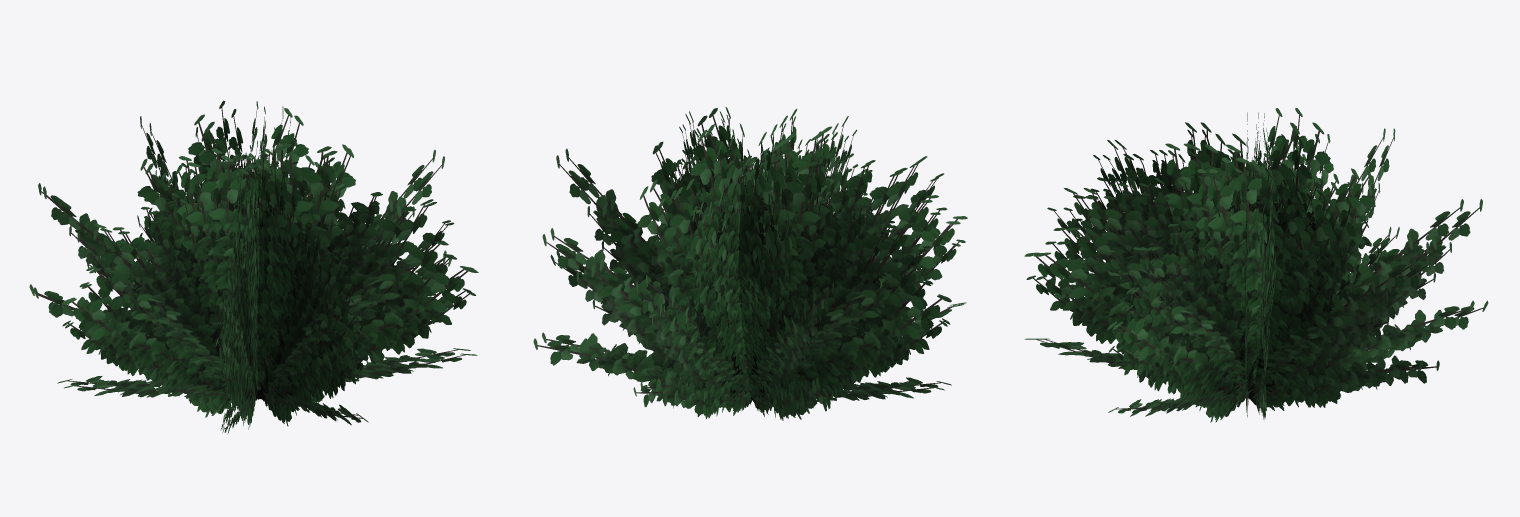
The model's file is bush.fbx.
The picture shows the model from 3 angles, left to right: view 1: azimuth 30°, elevation 25°; view 2: azimuth 150°, elevation 25°; view 3: azimuth 270°, elevation 25°; orthographic projection.
Parts seen in each view (by area): view 1: bush, bush.007; view 2: bush.007, bush; view 3: bush.007, bush.
Part boxes in pixels (x1=…): bush: x1=33, y1=106, x2=478, y2=434; bush.007: x1=29, y1=100, x2=474, y2=430; bush.007: x1=533, y1=111, x2=964, y2=420; bush: x1=542, y1=107, x2=967, y2=417; bush.007: x1=1033, y1=108, x2=1488, y2=422; bush: x1=1024, y1=108, x2=1474, y2=422.
Size of the model in its own units: 100 by 66.85 by 104.
